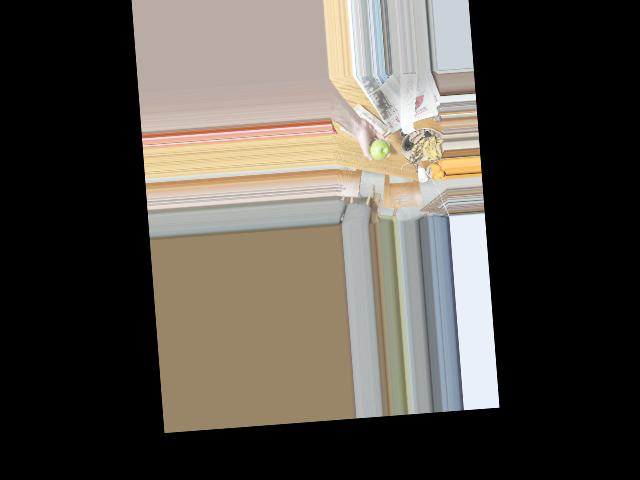apple: (369, 137, 389, 161)
